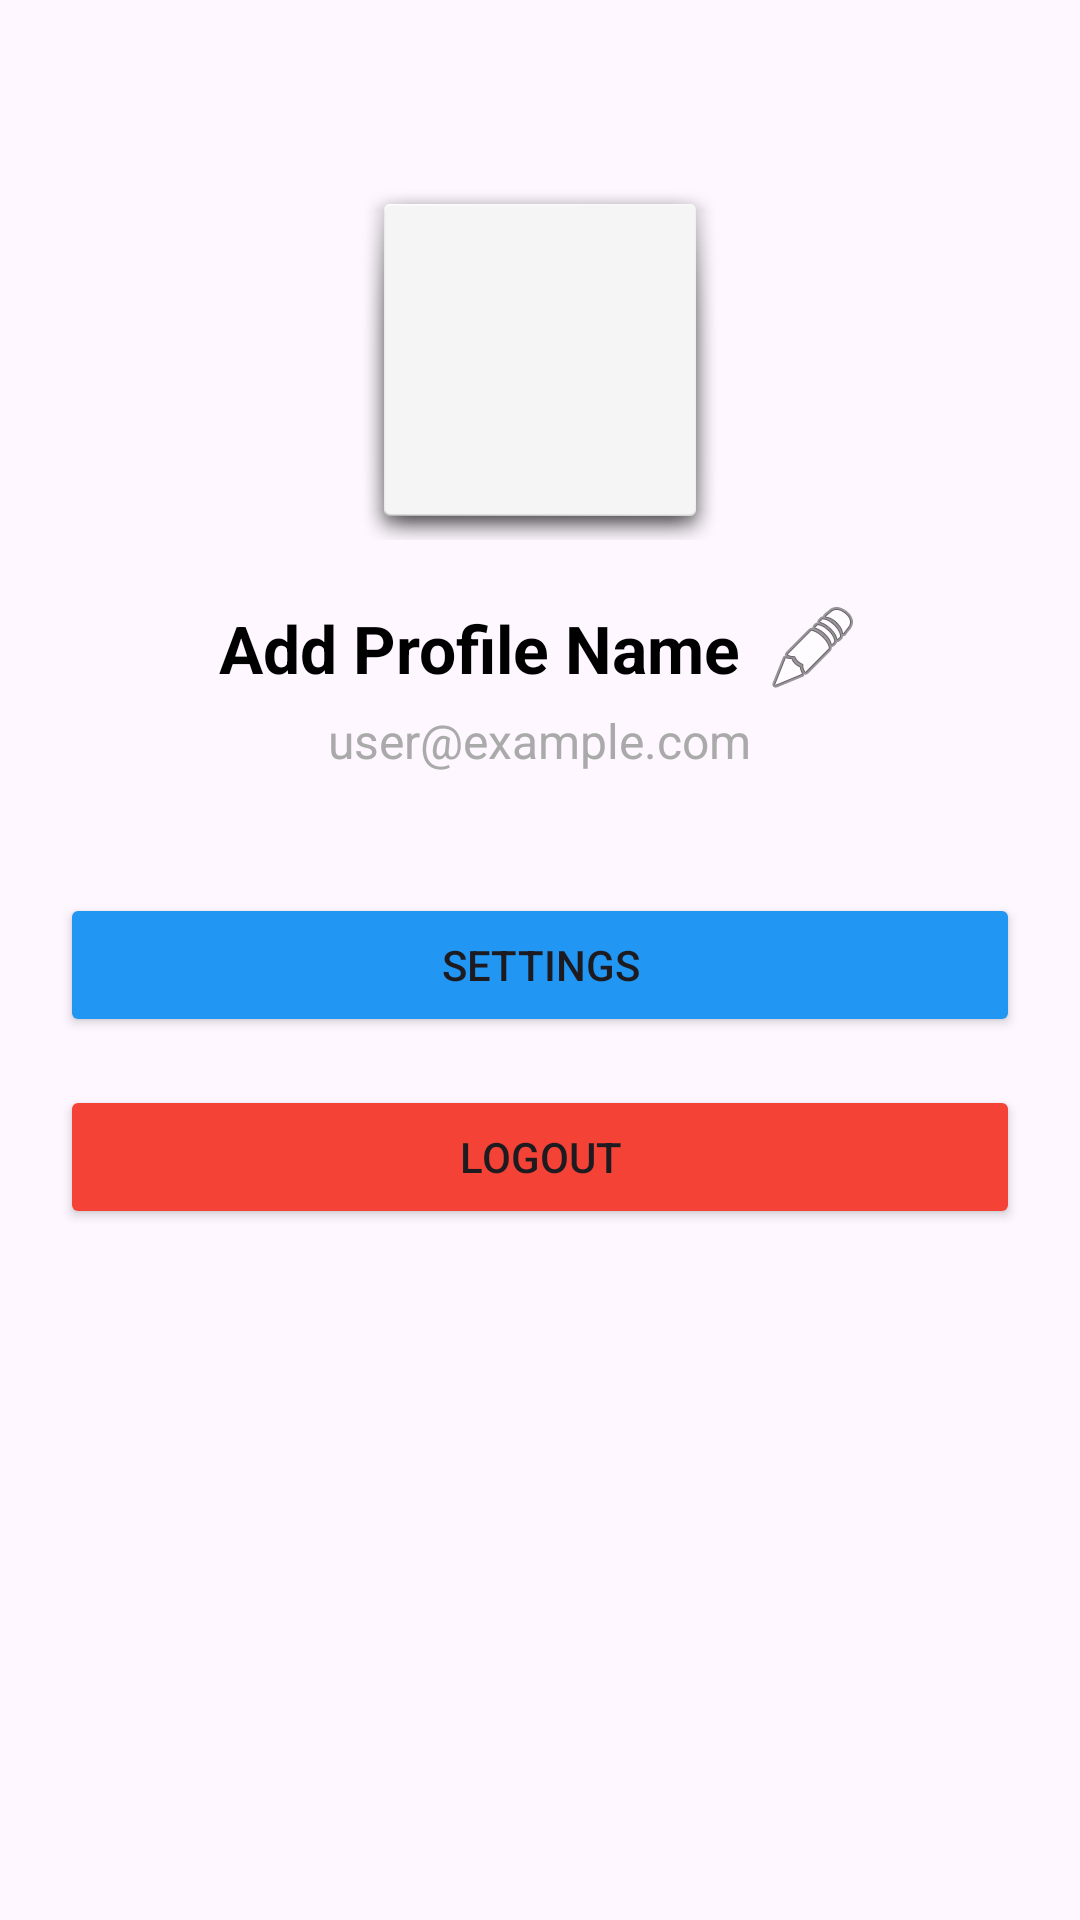

Screen size 1080*1920. Icon name, then its center in pixels as (x=x, y=y):
Edit Name: (x=812, y=647)
